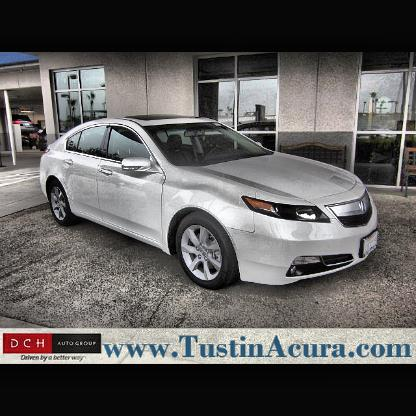Acura TL Sedan 2012: (40, 112, 383, 295)
